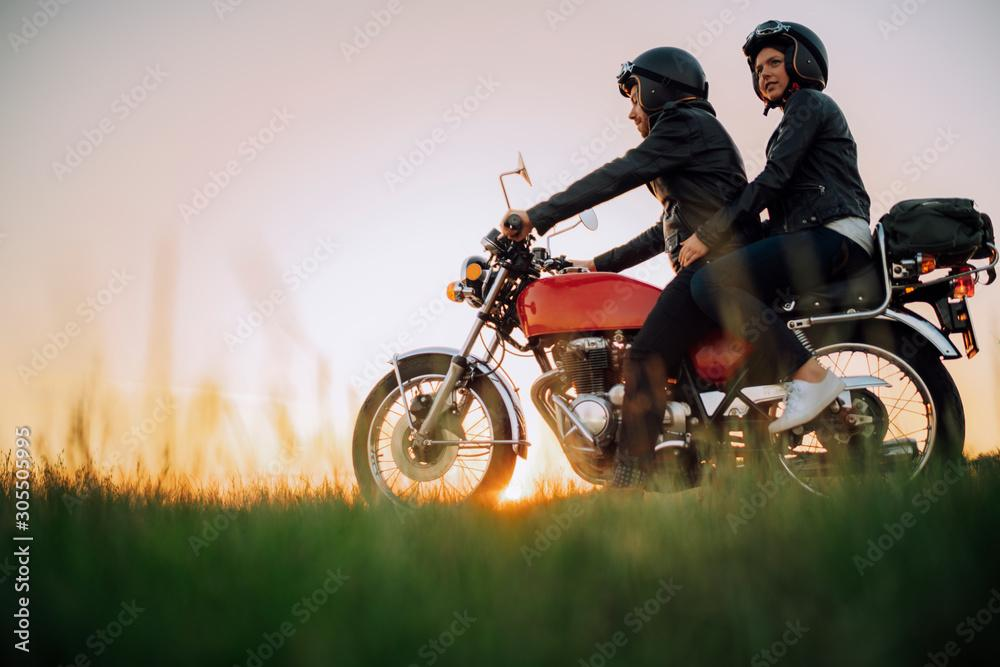helmet: (616, 45, 710, 140), (741, 18, 829, 117)
